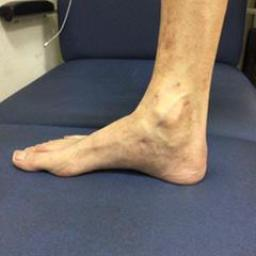Medial View -Right Foot-: (8, 76, 218, 194)
